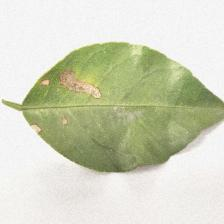canker: (27, 60, 112, 146)
